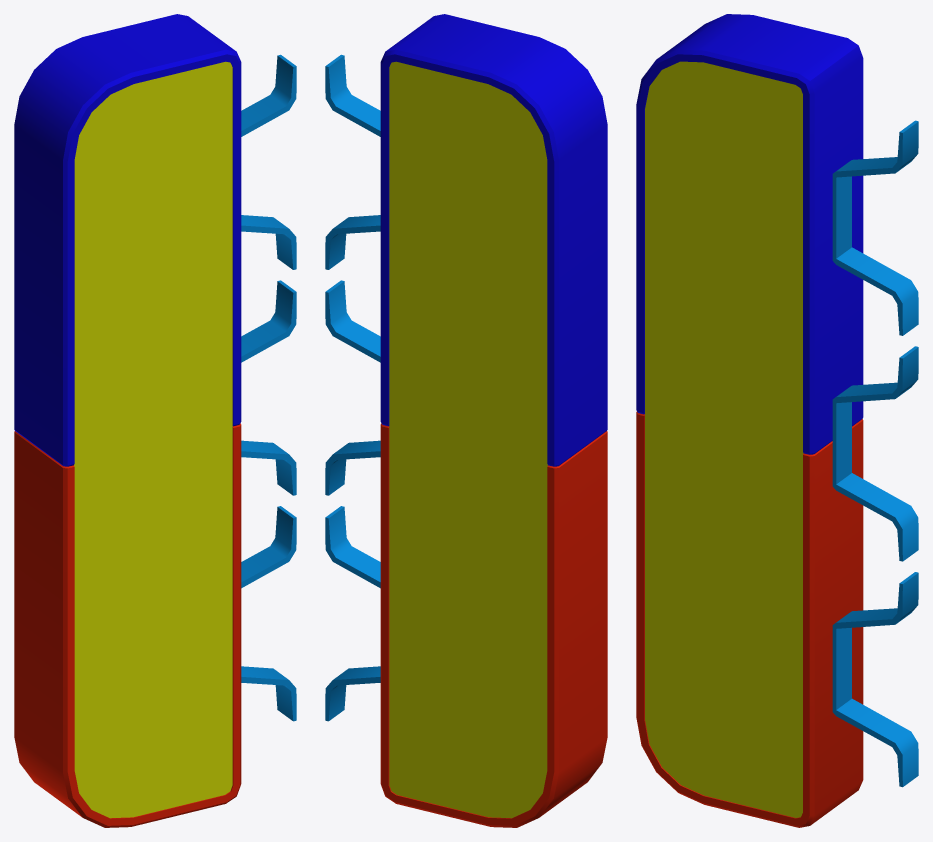
The model's file is Signage_B_01.fbx.
3 renders of one model, left to right at view 1: azimuth 30°, elevation 25°; view 2: azimuth 150°, elevation 25°; view 3: azimuth 330°, elevation 25°, orthographic.
Visible parts, largest first — view 1: Signage_B_01; view 2: Signage_B_01; view 3: Signage_B_01.
Part boxes in pixels (box(x1,y1,x2,y2)): Signage_B_01: box(14, 14, 296, 827); Signage_B_01: box(325, 14, 607, 827); Signage_B_01: box(636, 14, 918, 827).
Bounding box in the file's own units: 60.99 × 176 × 22.06.
